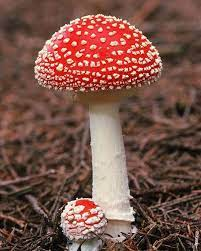Amanita muscaria: (30, 16, 165, 243), (58, 194, 109, 249)
